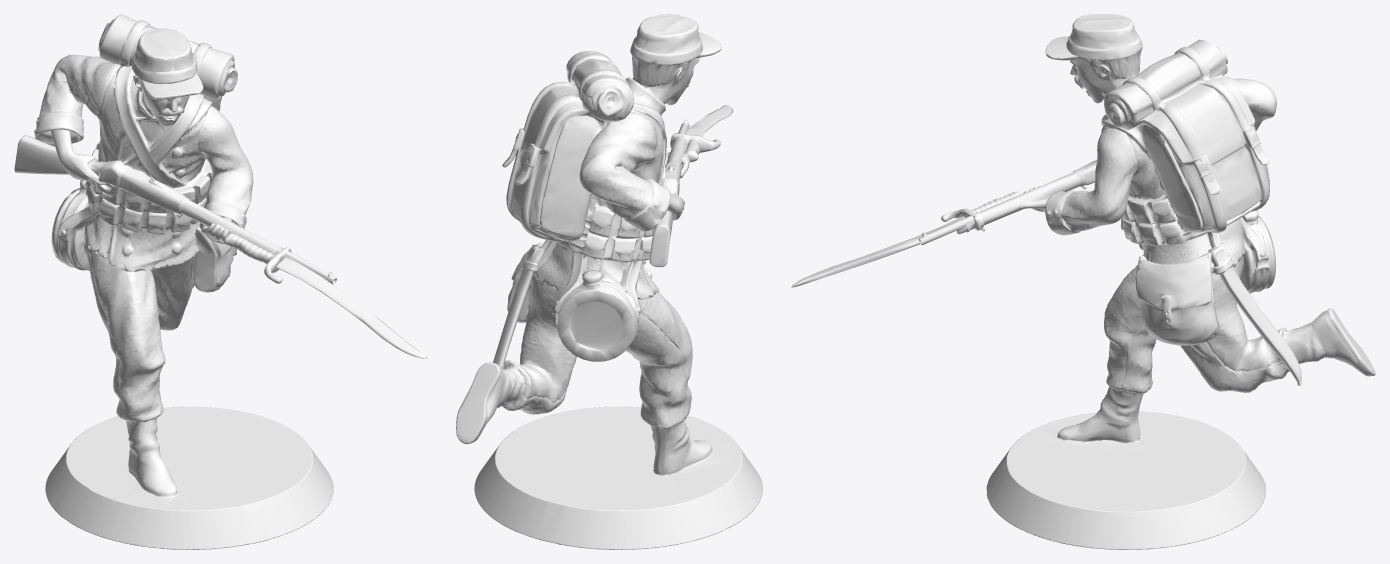
The model's file is Chilean Infantery_pose_corriendo_low.glb.
3 views of the same model, side by side, from view 1: azimuth 30°, elevation 25°; view 2: azimuth 150°, elevation 25°; view 3: azimuth 270°, elevation 25° (orthographic). The views are drawn at different scales.
Visible parts, largest first — view 1: Chilean Infantery_pose_corriendo_low; view 2: Chilean Infantery_pose_corriendo_low; view 3: Chilean Infantery_pose_corriendo_low.
Part boxes in pixels (x1,y1,x2,y2): Chilean Infantery_pose_corriendo_low: [14, 14, 426, 549]; Chilean Infantery_pose_corriendo_low: [456, 14, 762, 549]; Chilean Infantery_pose_corriendo_low: [791, 14, 1375, 549].
Size of the model in its own units: 46.79 by 83.67 by 97.9.
1 material, 1 textured.
